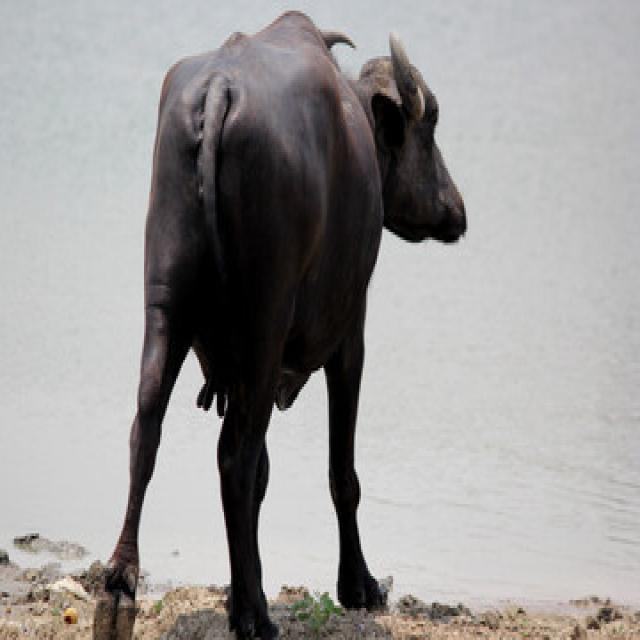Buffalo: (98, 6, 468, 638)
